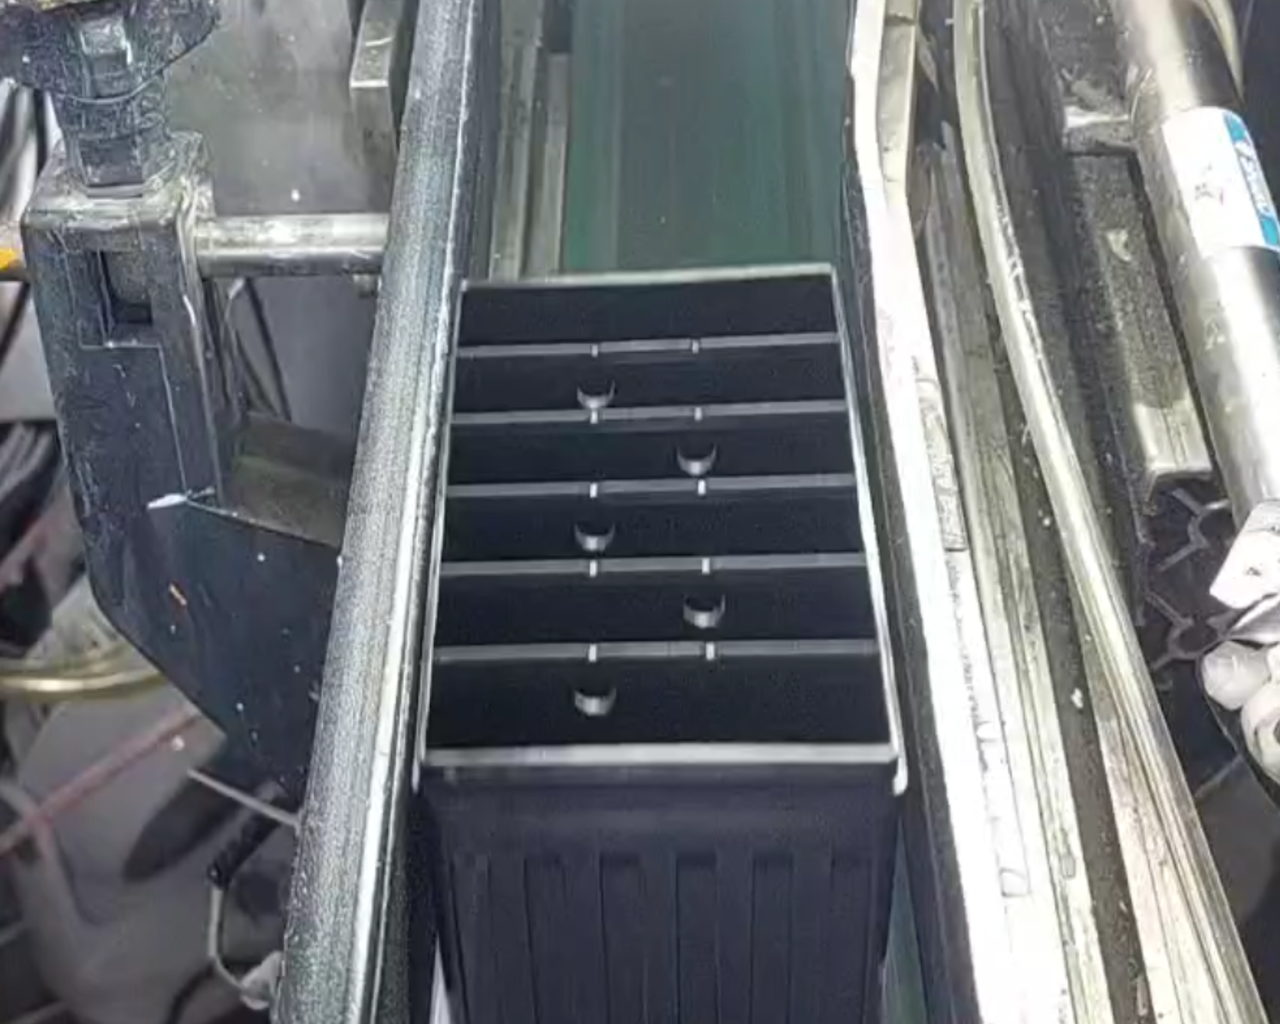box: (392, 243, 927, 819)
round: (552, 497, 634, 564), (556, 655, 632, 725), (668, 571, 743, 641), (656, 417, 732, 486), (560, 356, 628, 417)
